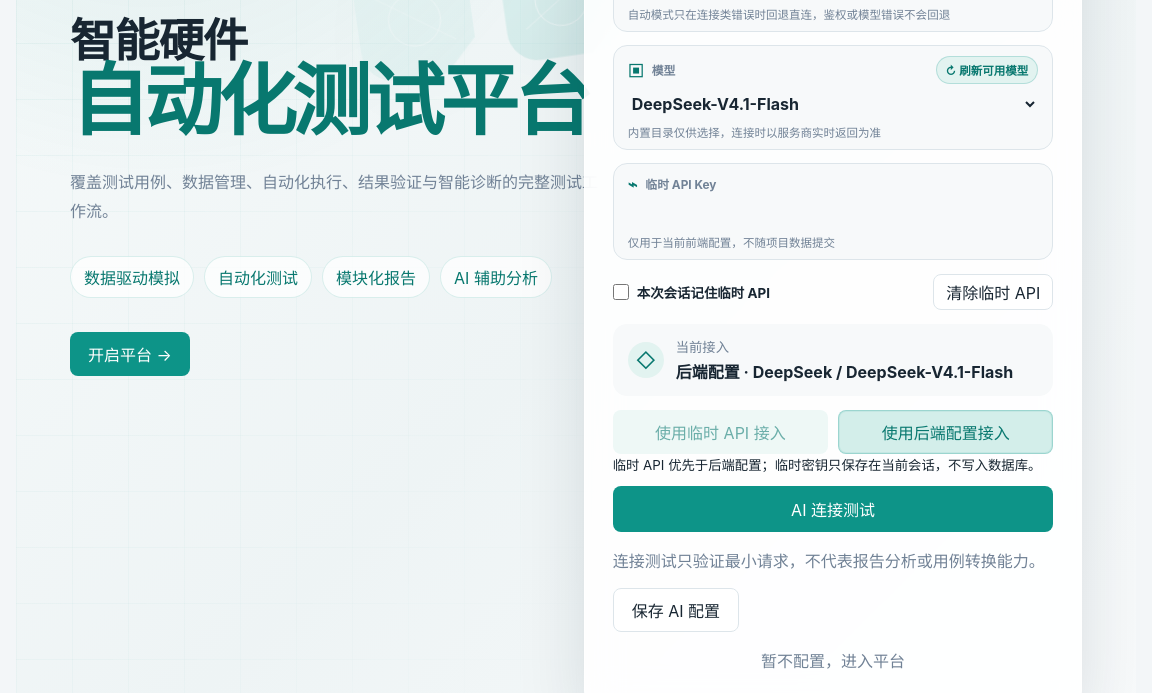
Scenario: 没有原始用例时展示空状态
(page scrolled)
Click the button "开启平台 →": coordinates (130, 354) top-left (70, 332), bottom-right (190, 376)
(page scrolled)
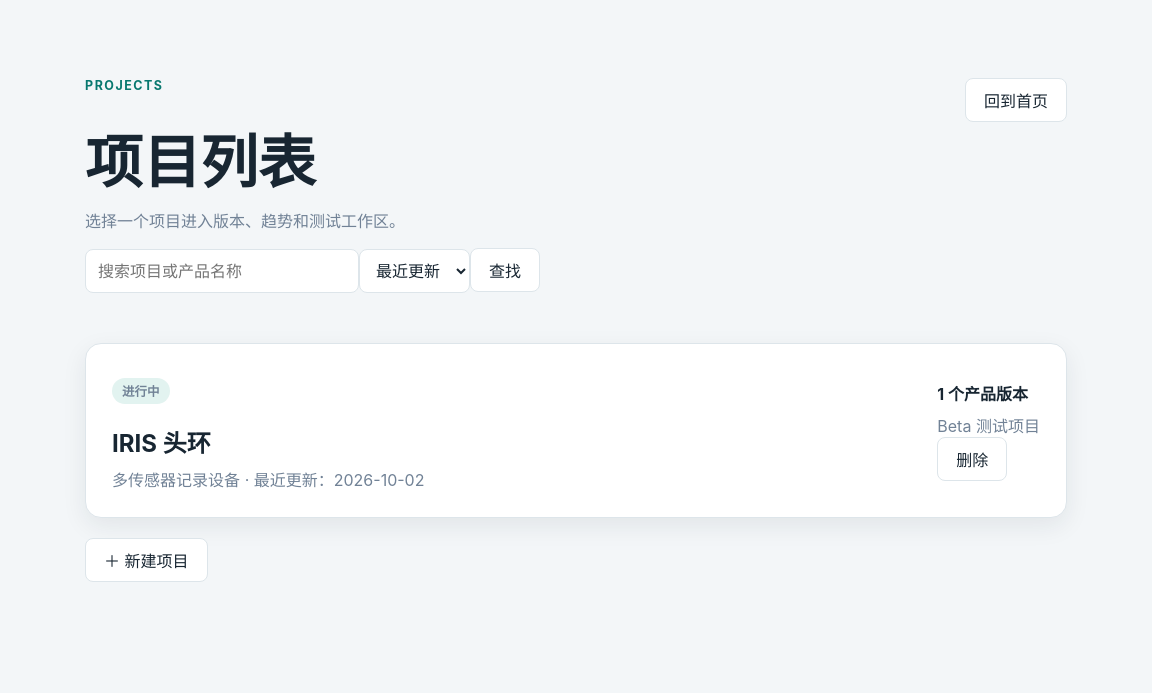
Click the button "进行中 IRIS 头环 多传感器记录设备 · 最近更新：2026-10-02 1 个产品版本 Beta 测试项目 删除": coordinates (576, 431) top-left (85, 343), bottom-right (1067, 518)
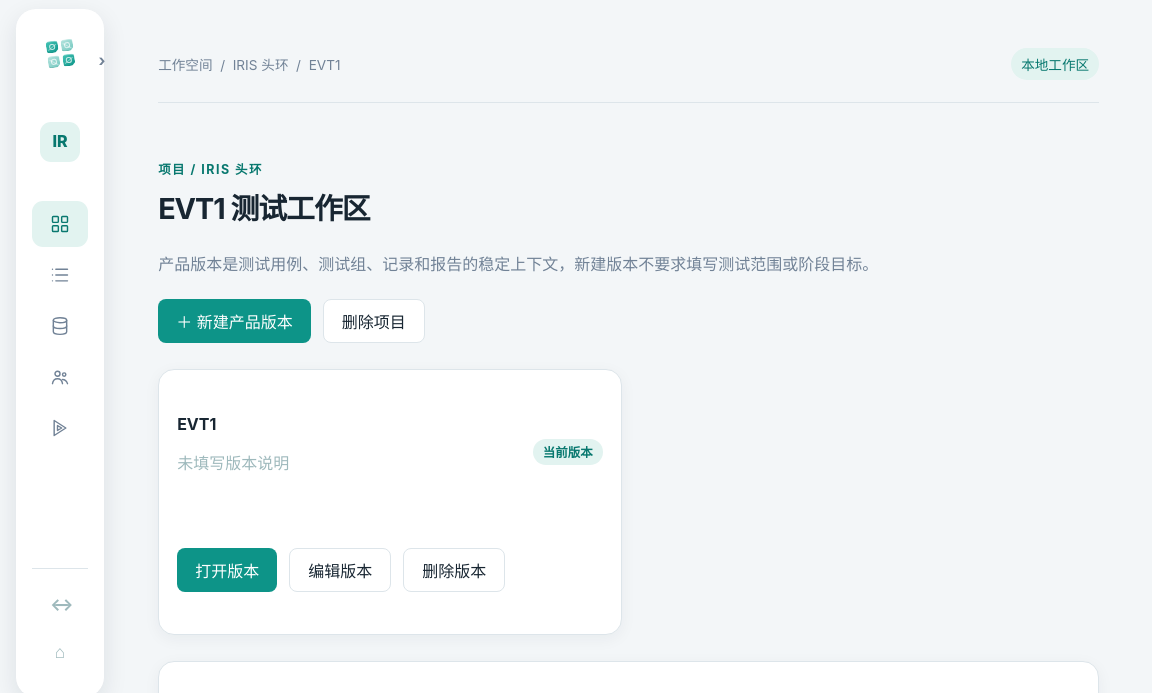
Click the button named "需求 / 测试用例": coordinates (60, 275) top-left (32, 252), bottom-right (88, 298)
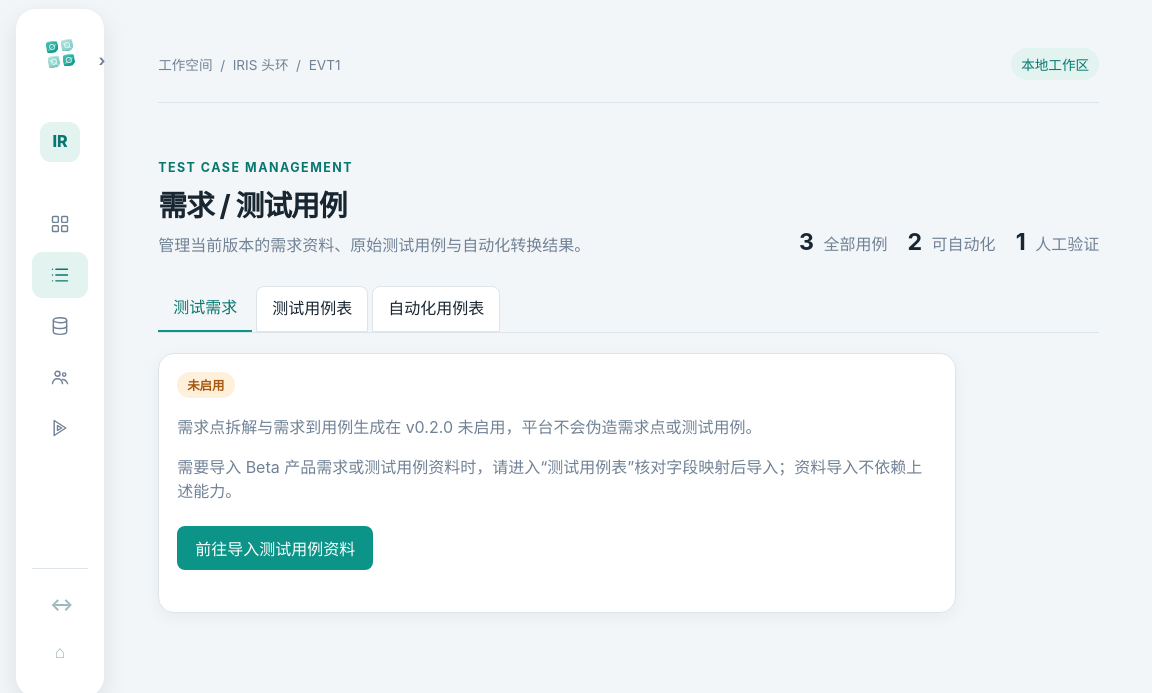
Click the button "测试用例表": coordinates (312, 309) top-left (256, 286), bottom-right (368, 332)
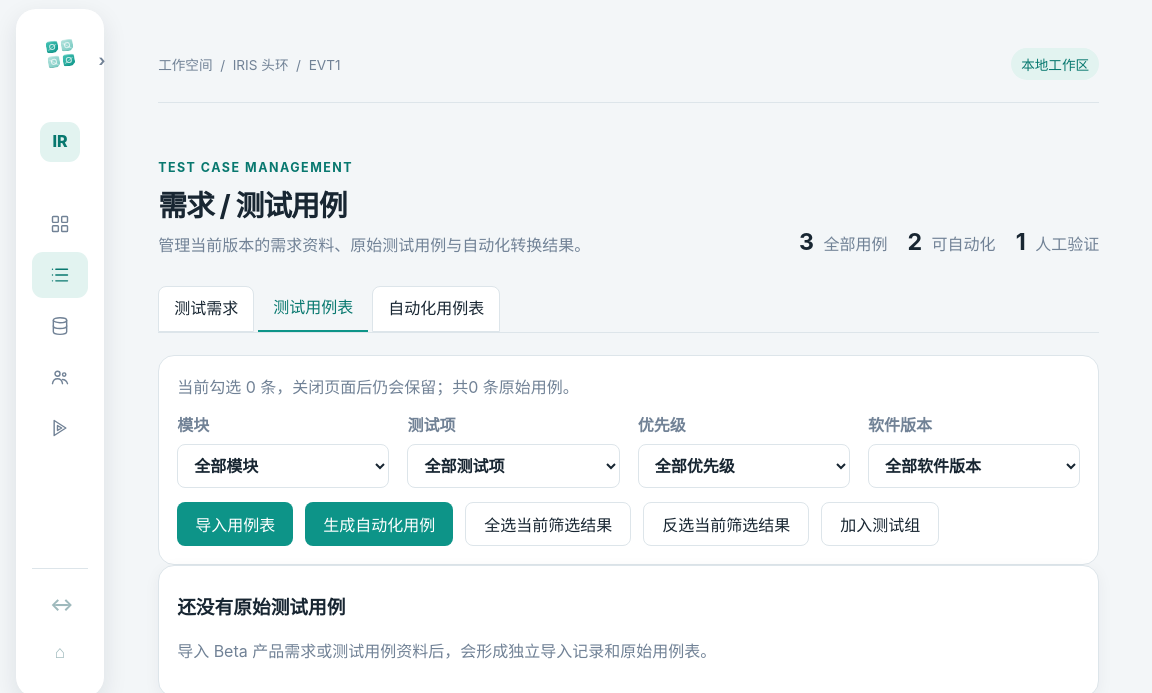
Now the button "导入用例表" is shown, box top-left (177, 502), bottom-right (293, 546)
Now the heading "还没有原始测试用例" is shown, box top-left (177, 596), bottom-right (345, 619)
